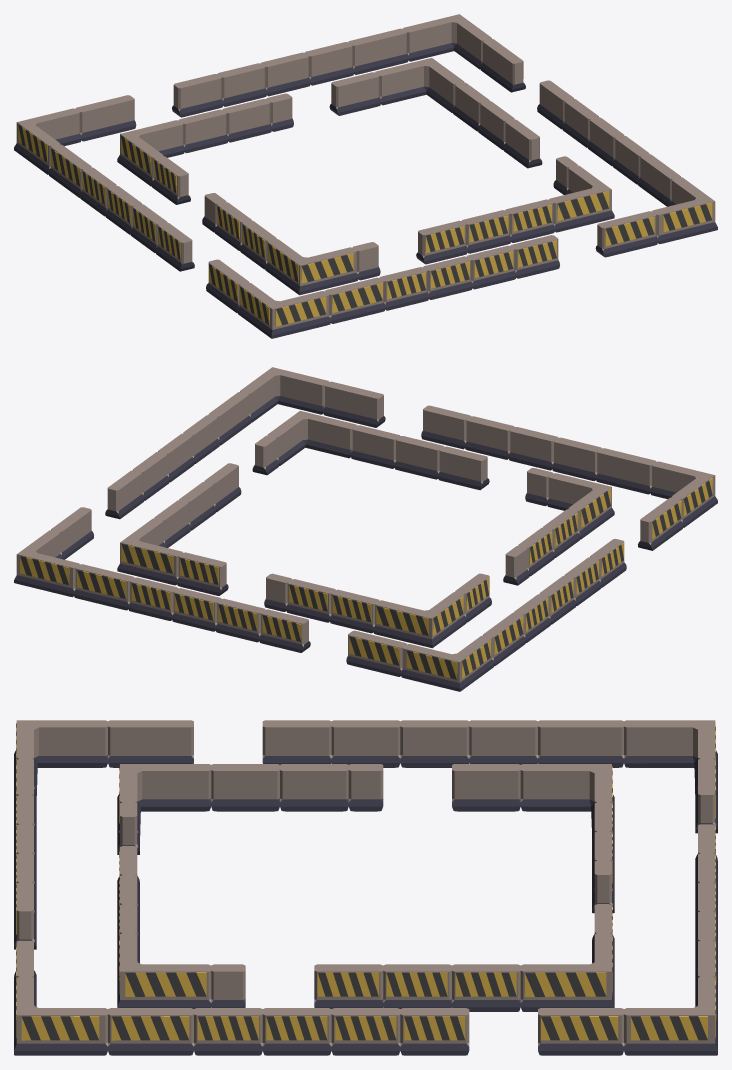
Rendered from MilitaryBaseWalls.fbx.
3 renders of one model, top to bottom at view 1: azimuth 30°, elevation 25°; view 2: azimuth 150°, elevation 25°; view 3: azimuth 270°, elevation 25°, orthographic. The views are drawn at different scales.
Parts seen in each view (by area): view 1: Cube.022; view 2: Cube.022; view 3: Cube.022.
Boxes of the visible parts, x1,y1,x2,y2 form: Cube.022: (14,14,717,338); Cube.022: (14,367,717,691); Cube.022: (14,720,717,1055).
Size of the model in its own units: 19.81 by 1.26 by 19.81.
